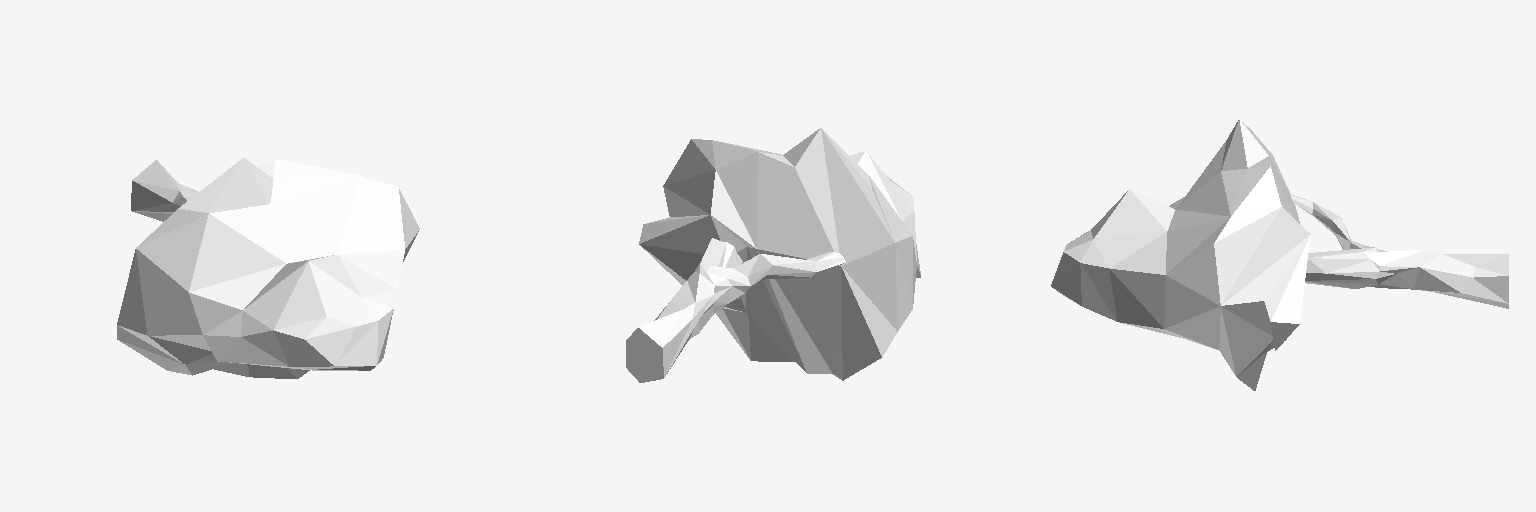
File: tree4.obj
The picture shows the model from 3 angles: view 1: azimuth 30°, elevation 25°; view 2: azimuth 150°, elevation 25°; view 3: azimuth 270°, elevation 25°; orthographic projection.
Parts seen in each view (by area): view 1: Object.1; view 2: Object.1; view 3: Object.1.
Boxes of the visible parts, x1=… form: Object.1: x1=117, y1=158, x2=419, y2=378; Object.1: x1=626, y1=128, x2=920, y2=382; Object.1: x1=1051, y1=119, x2=1508, y2=390.
Size of the model in its own units: 165 by 143 by 244.